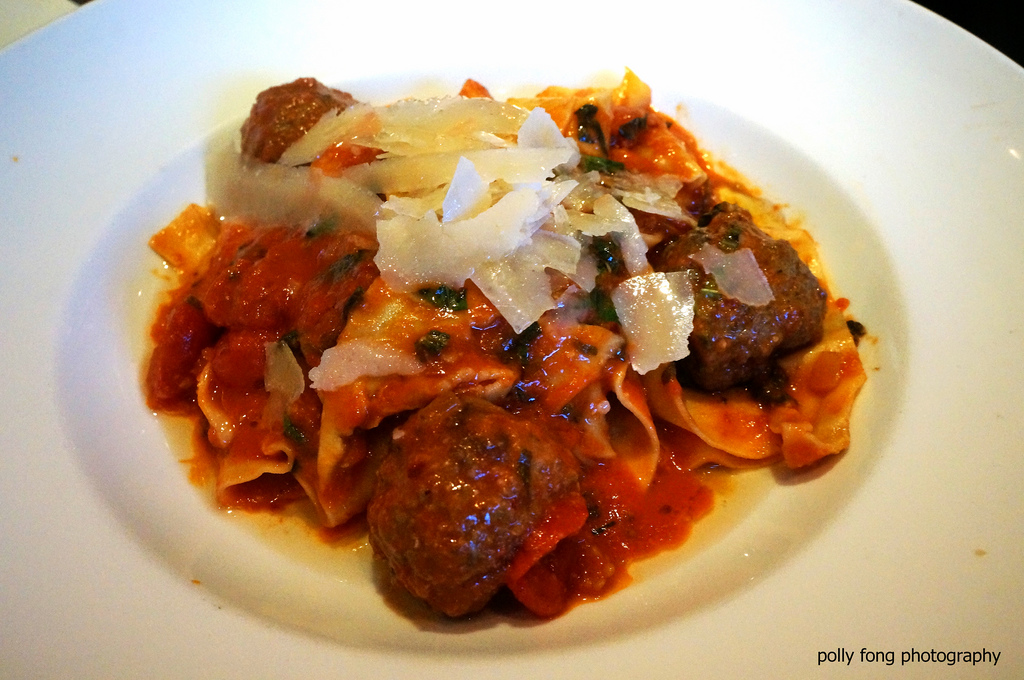meatballs: (370, 423, 568, 611), (650, 212, 808, 363), (246, 80, 392, 198)
